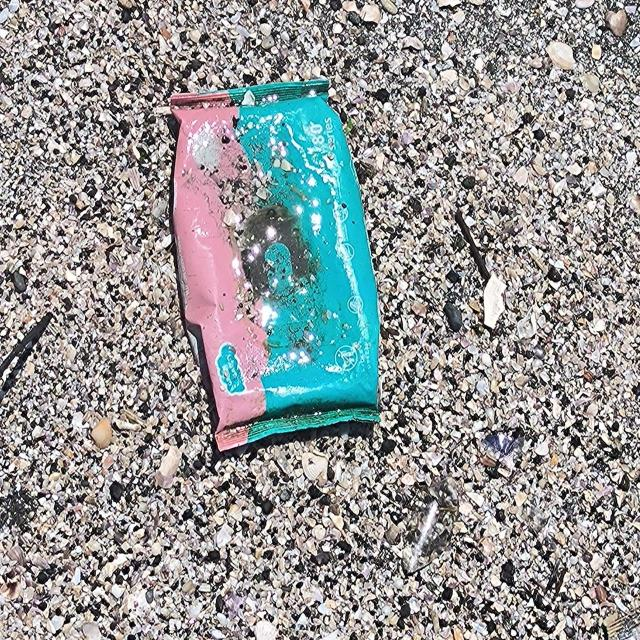plastic_waste: (169, 77, 384, 451)
